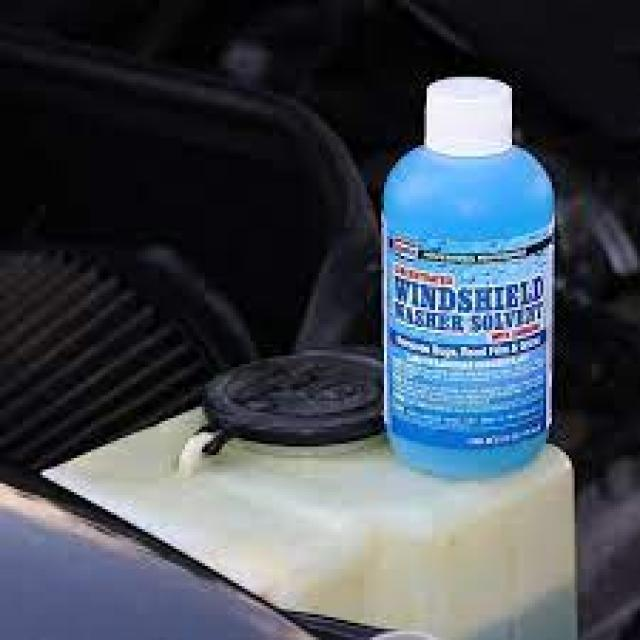winwinshield_washer: (381, 68, 559, 485)
